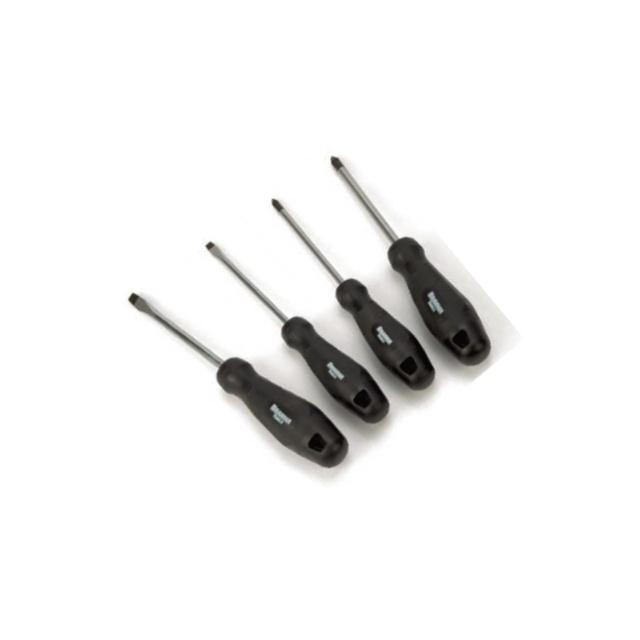screwdriver: (123, 244, 360, 506), (300, 142, 510, 380), (198, 212, 402, 442), (251, 178, 450, 404)
